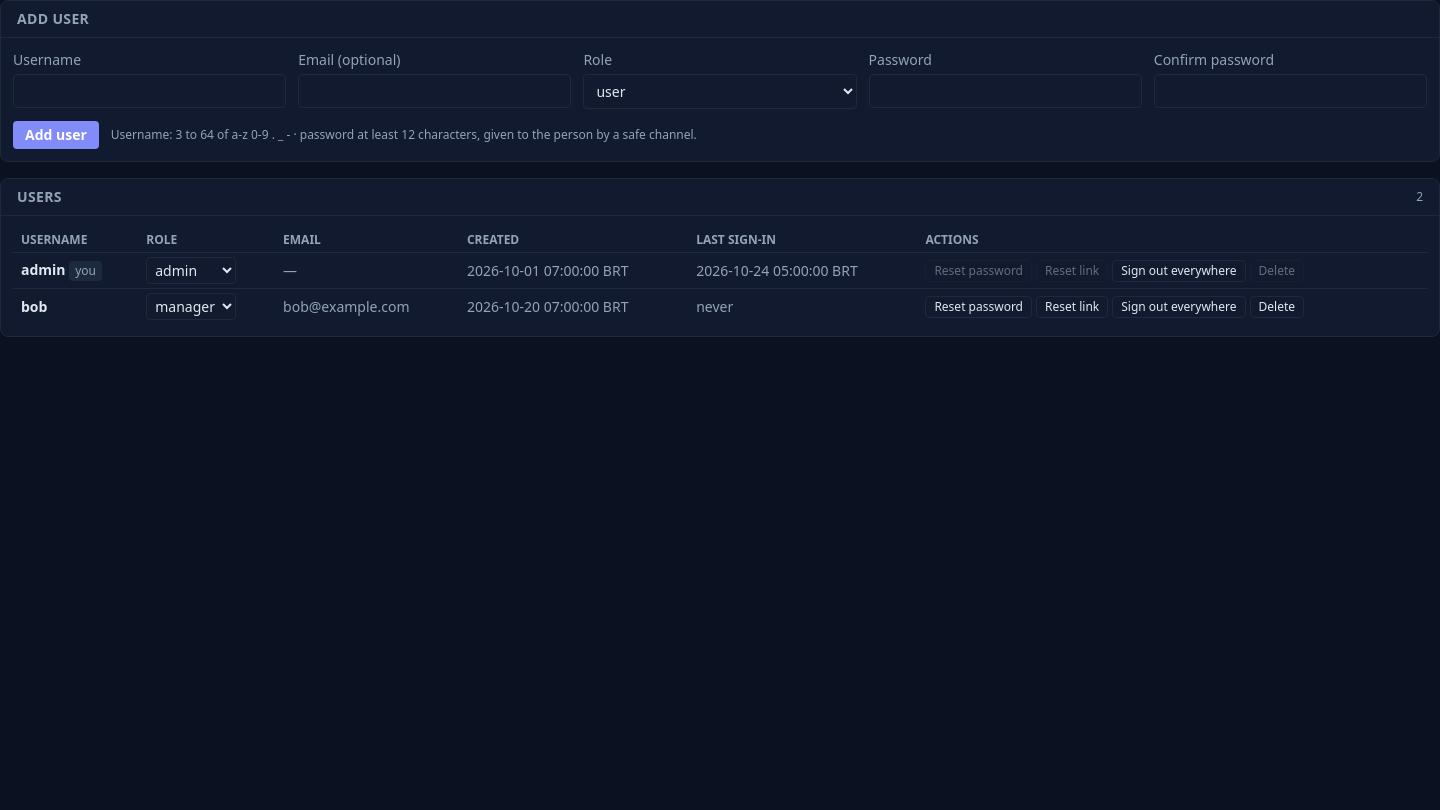
Users page › a role change asks first and sends PATCH with the new role; the server's refusal is shown
Expected: the button "Change role" is not shown
Select "user" in the dropdown named "Role of admin" at (191,270), box left=146, top=257, right=236, bottom=284
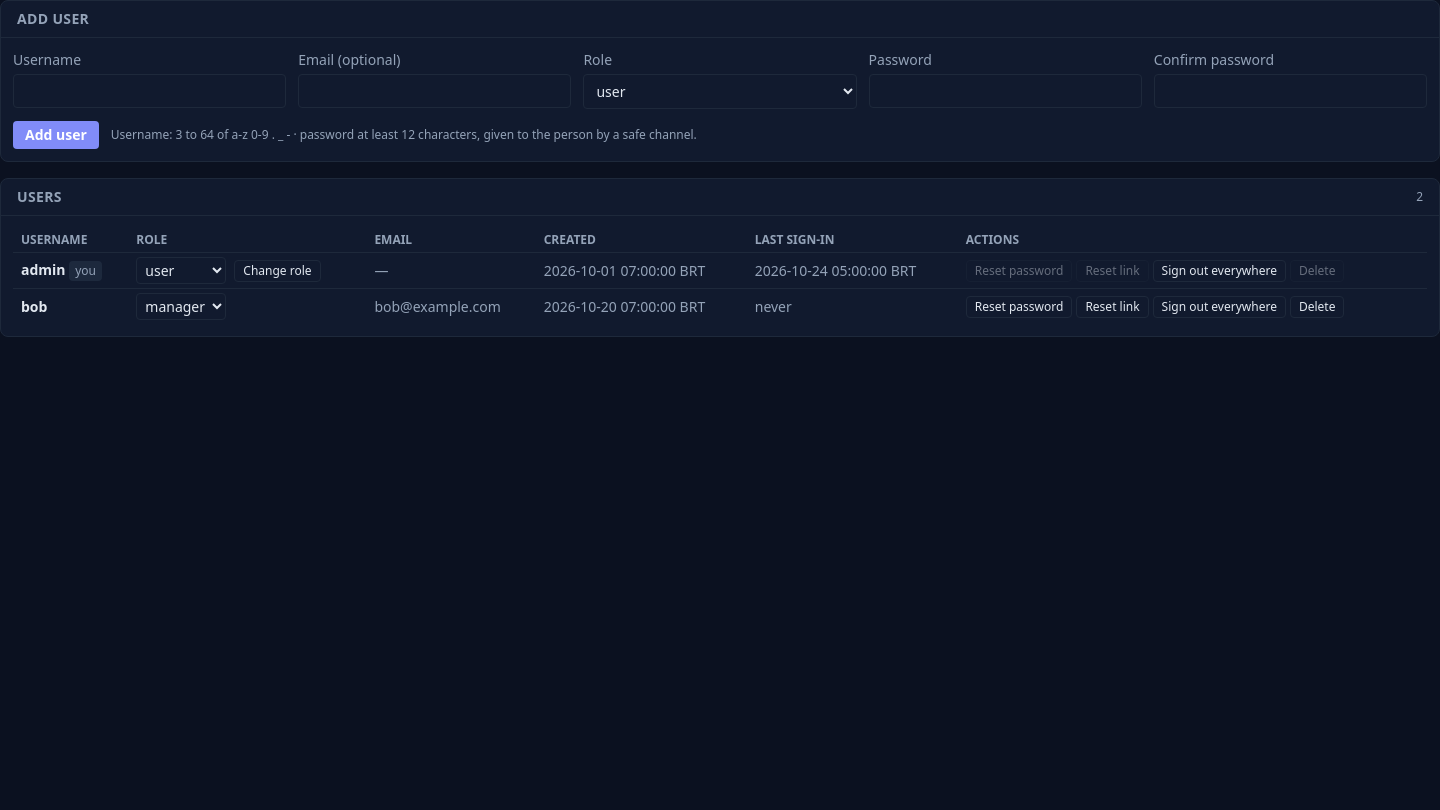
Click the button "Change role".
click(277, 270)  # box left=234, top=260, right=321, bottom=282
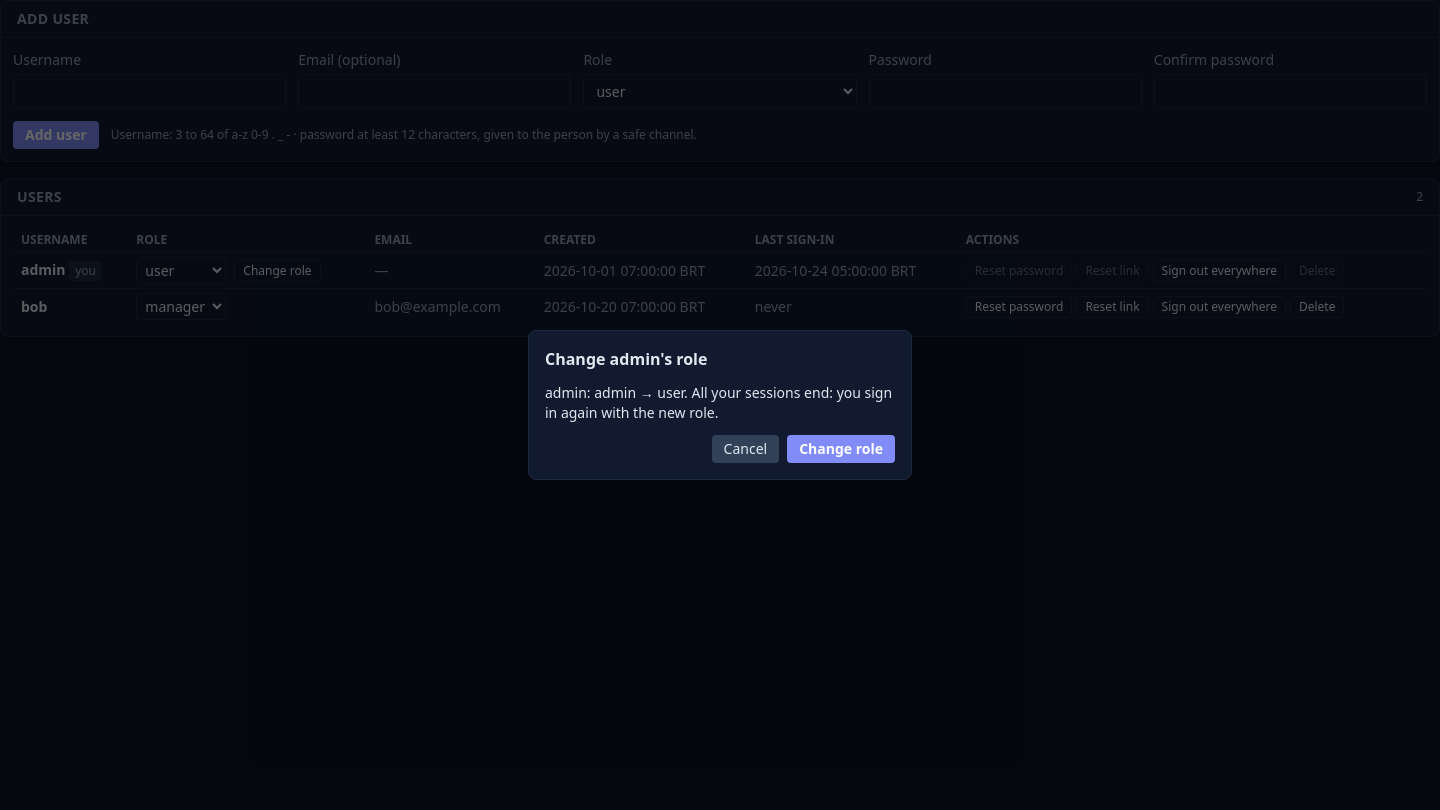
Expected: the dialog shows "admin: admin → user", left=545, top=383, right=892, bottom=422
Click the button "Change role".
click(841, 449)  # box left=787, top=435, right=895, bottom=463
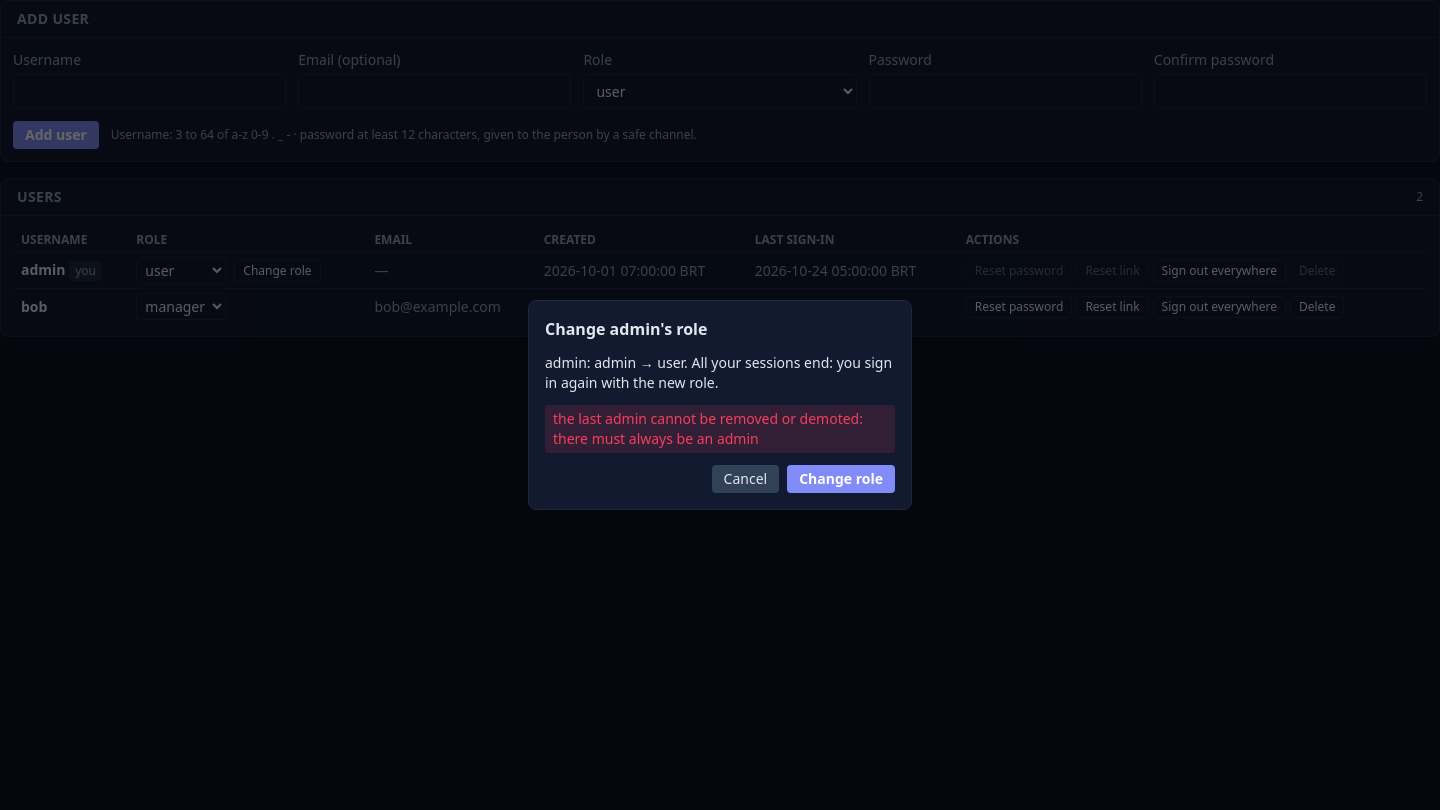
Expected: the message shows "there must always be an admin", left=553, top=409, right=863, bottom=448
